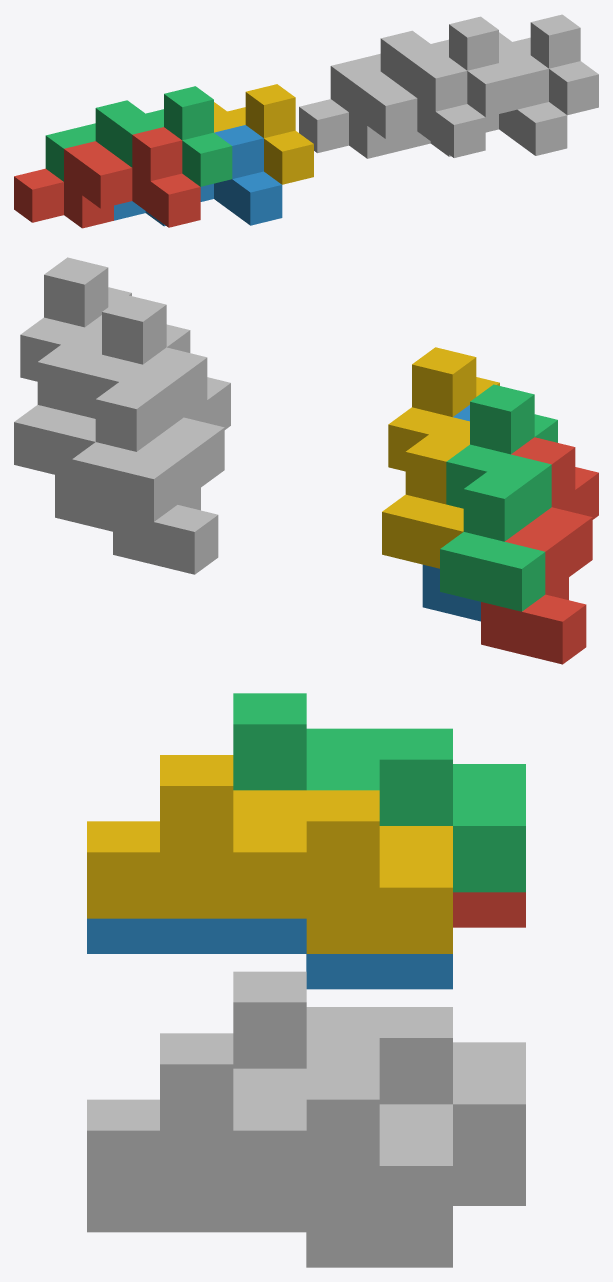
The model's file is tiling.obj.
The picture shows the model from 3 angles, top to bottom: view 1: azimuth 30°, elevation 25°; view 2: azimuth 150°, elevation 25°; view 3: azimuth 270°, elevation 25°; orthographic projection. The views are drawn at different scales.
Visible parts, largest first — view 1: copy_1_domain_1, copy_1_domain_5, copy_1_domain_3, copy_1_domain_7, copy_1_domain_8, copy_1_domain_4, copy_1_domain_6, copy_1_domain_2; view 2: copy_1_domain_7, copy_1_domain_3, copy_1_domain_8, copy_1_domain_4, copy_1_domain_1, copy_1_domain_5, copy_1_domain_2, copy_1_domain_6; view 3: copy_1_domain_8, copy_1_domain_4, copy_1_domain_3, copy_1_domain_7, copy_1_domain_2, copy_1_domain_6, copy_1_domain_1, copy_1_domain_5.
Boxes of the visible parts, x1,y1,x2,y2 form: copy_1_domain_1: (14, 127, 200, 228); copy_1_domain_5: (299, 57, 485, 158); copy_1_domain_3: (45, 86, 232, 186); copy_1_domain_7: (330, 16, 517, 117); copy_1_domain_8: (499, 14, 598, 115); copy_1_domain_4: (214, 84, 313, 184); copy_1_domain_6: (399, 55, 567, 156); copy_1_domain_2: (114, 125, 282, 226); copy_1_domain_7: (72, 294, 190, 521); copy_1_domain_3: (440, 384, 557, 611); copy_1_domain_8: (14, 257, 131, 478); copy_1_domain_4: (382, 347, 499, 568); copy_1_domain_1: (481, 437, 598, 664); copy_1_domain_5: (113, 347, 230, 574); copy_1_domain_2: (422, 405, 480, 621); copy_1_domain_6: (55, 315, 112, 531); copy_1_domain_8: (87, 1033, 452, 1232); copy_1_domain_4: (87, 755, 452, 953); copy_1_domain_3: (233, 693, 525, 892); copy_1_domain_7: (233, 971, 525, 1170); copy_1_domain_2: (87, 918, 452, 989); copy_1_domain_6: (87, 1197, 452, 1267); copy_1_domain_1: (453, 892, 525, 927); copy_1_domain_5: (453, 1170, 525, 1205).
Size of the model in its own units: 15 by 4 by 6.
